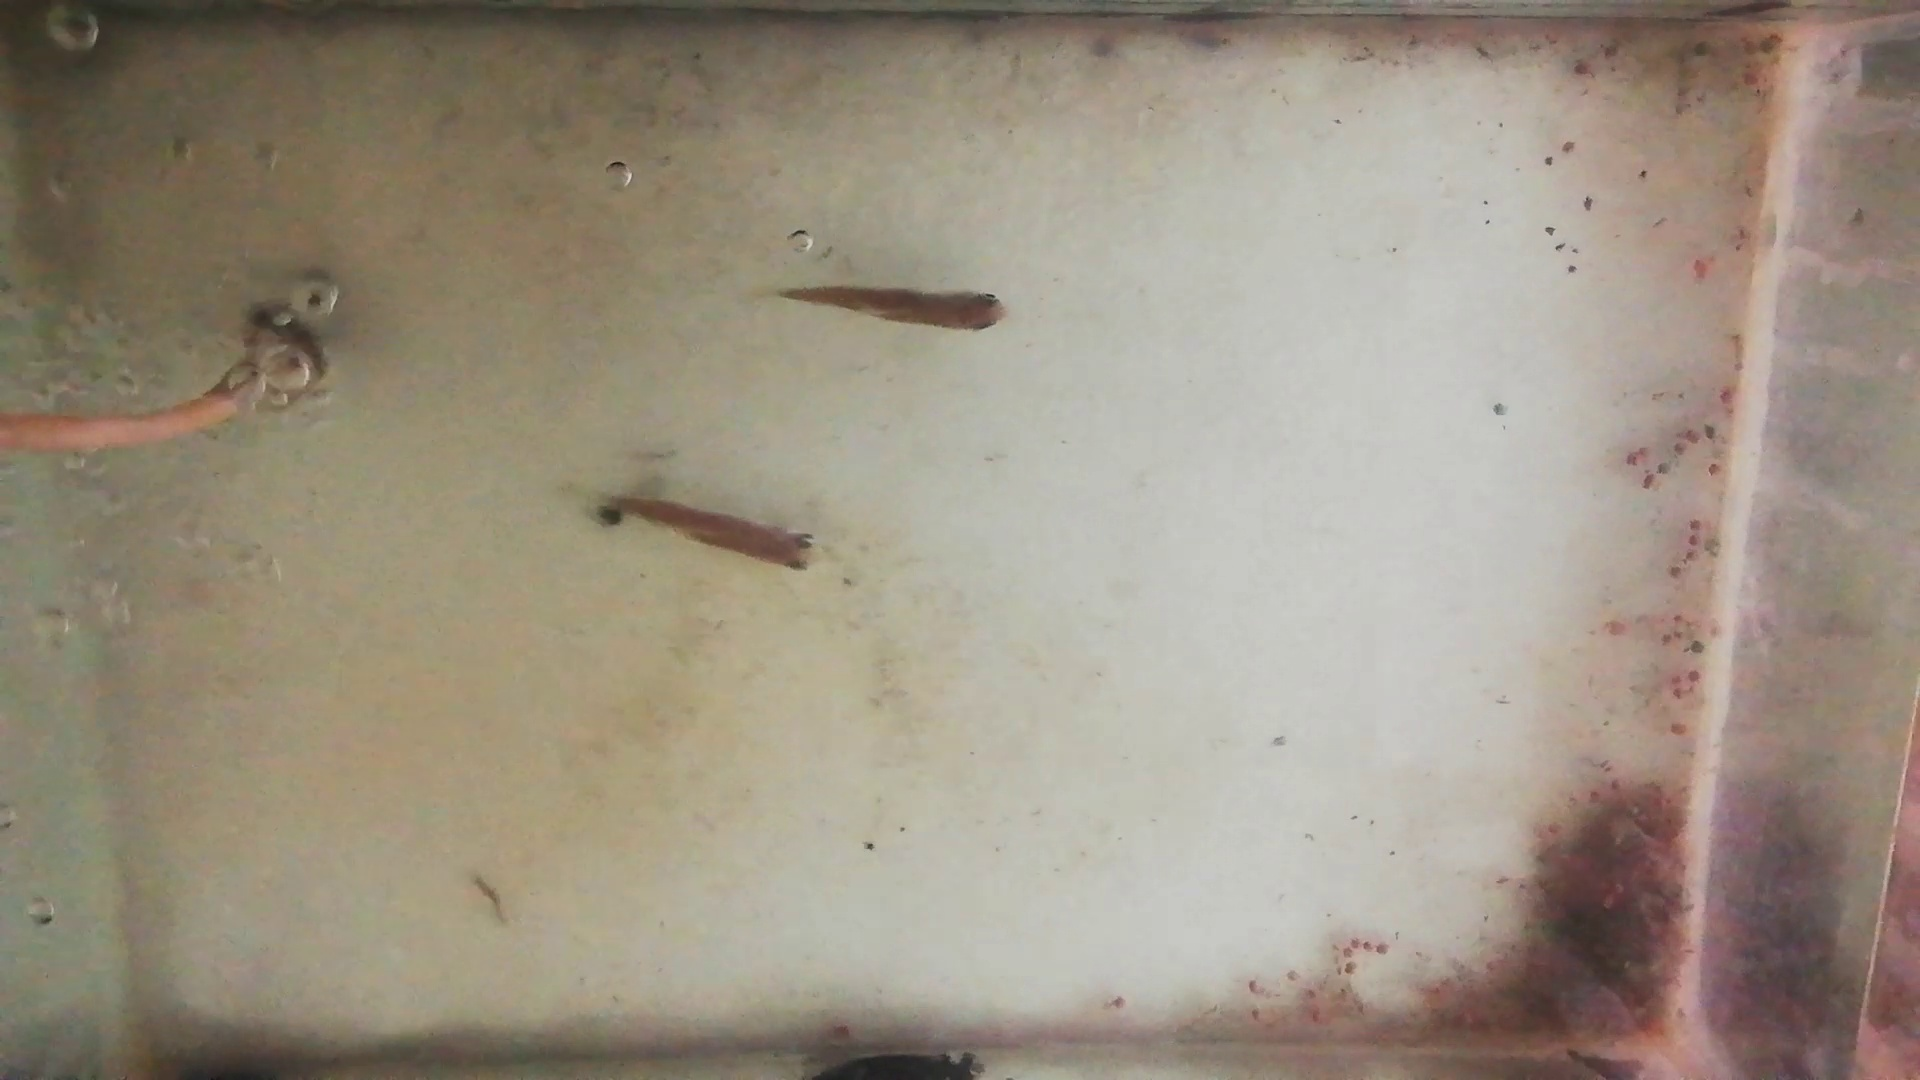fish: (603, 495, 825, 574), (783, 287, 1007, 334)
